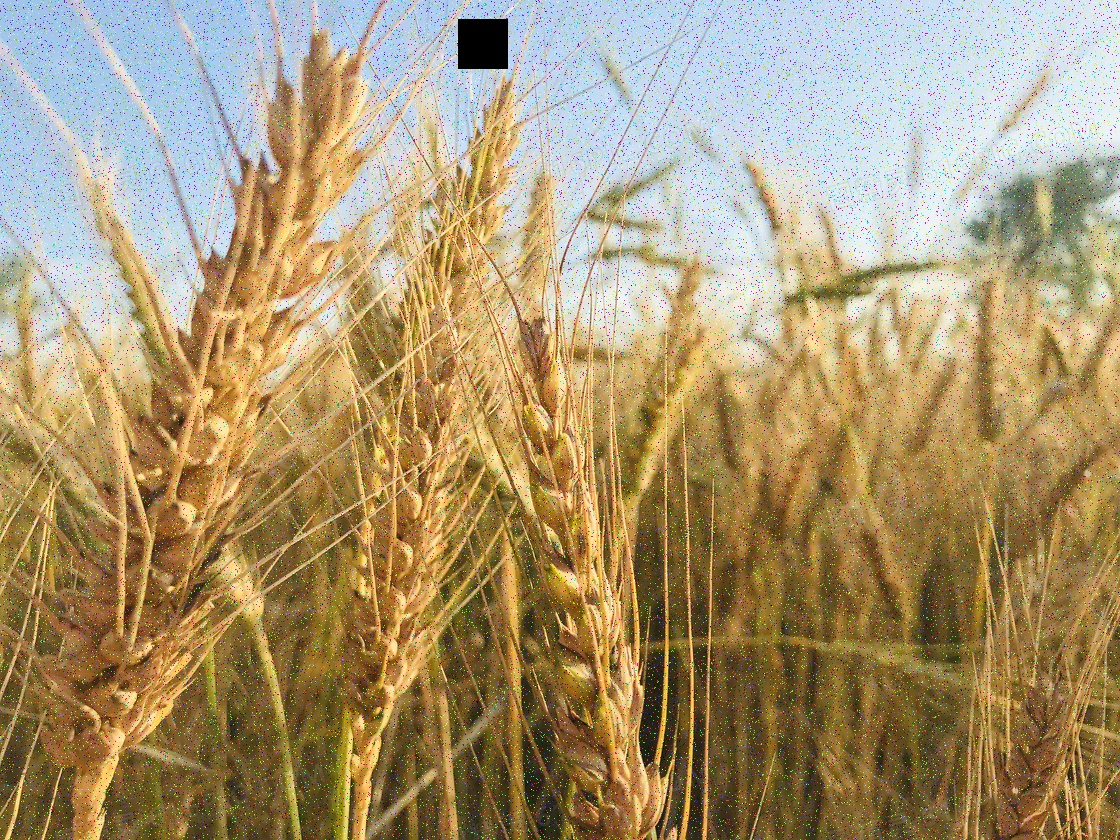wheat: (53, 56, 355, 783), (347, 138, 490, 754), (518, 336, 688, 835)
